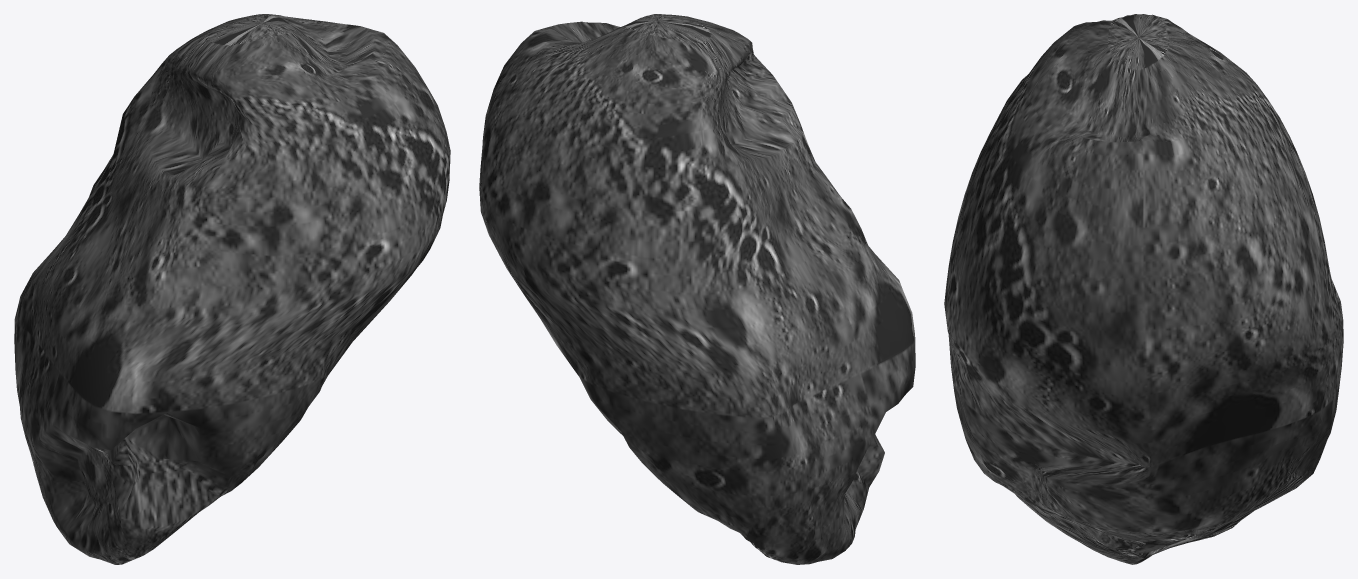
File: asteroideGaspra.fbx
3 renders of one model, left to right at view 1: azimuth 30°, elevation 25°; view 2: azimuth 150°, elevation 25°; view 3: azimuth 270°, elevation 25°, orthographic. The views are drawn at different scales.
Visible parts, largest first — view 1: pSphere1; view 2: pSphere1; view 3: pSphere1.
Boxes of the visible parts, bbox=[...] form: pSphere1: bbox=[14, 14, 450, 564]; pSphere1: bbox=[479, 14, 915, 564]; pSphere1: bbox=[944, 14, 1343, 564].
Size of the model in its own units: 2.48 by 3.09 by 1.83.
Materials: 1 (1 with a texture image).
